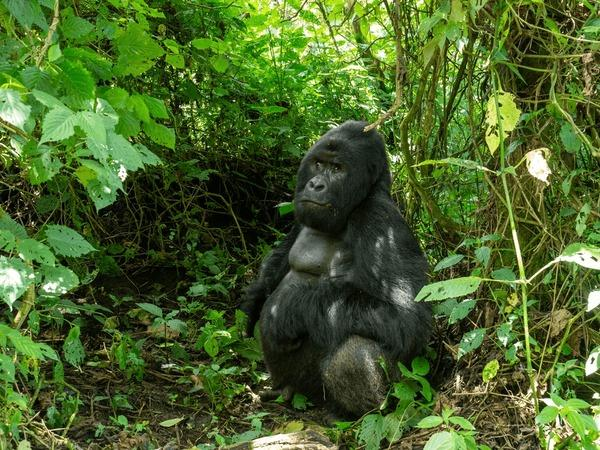goriile_montagne: (248, 105, 447, 417)
